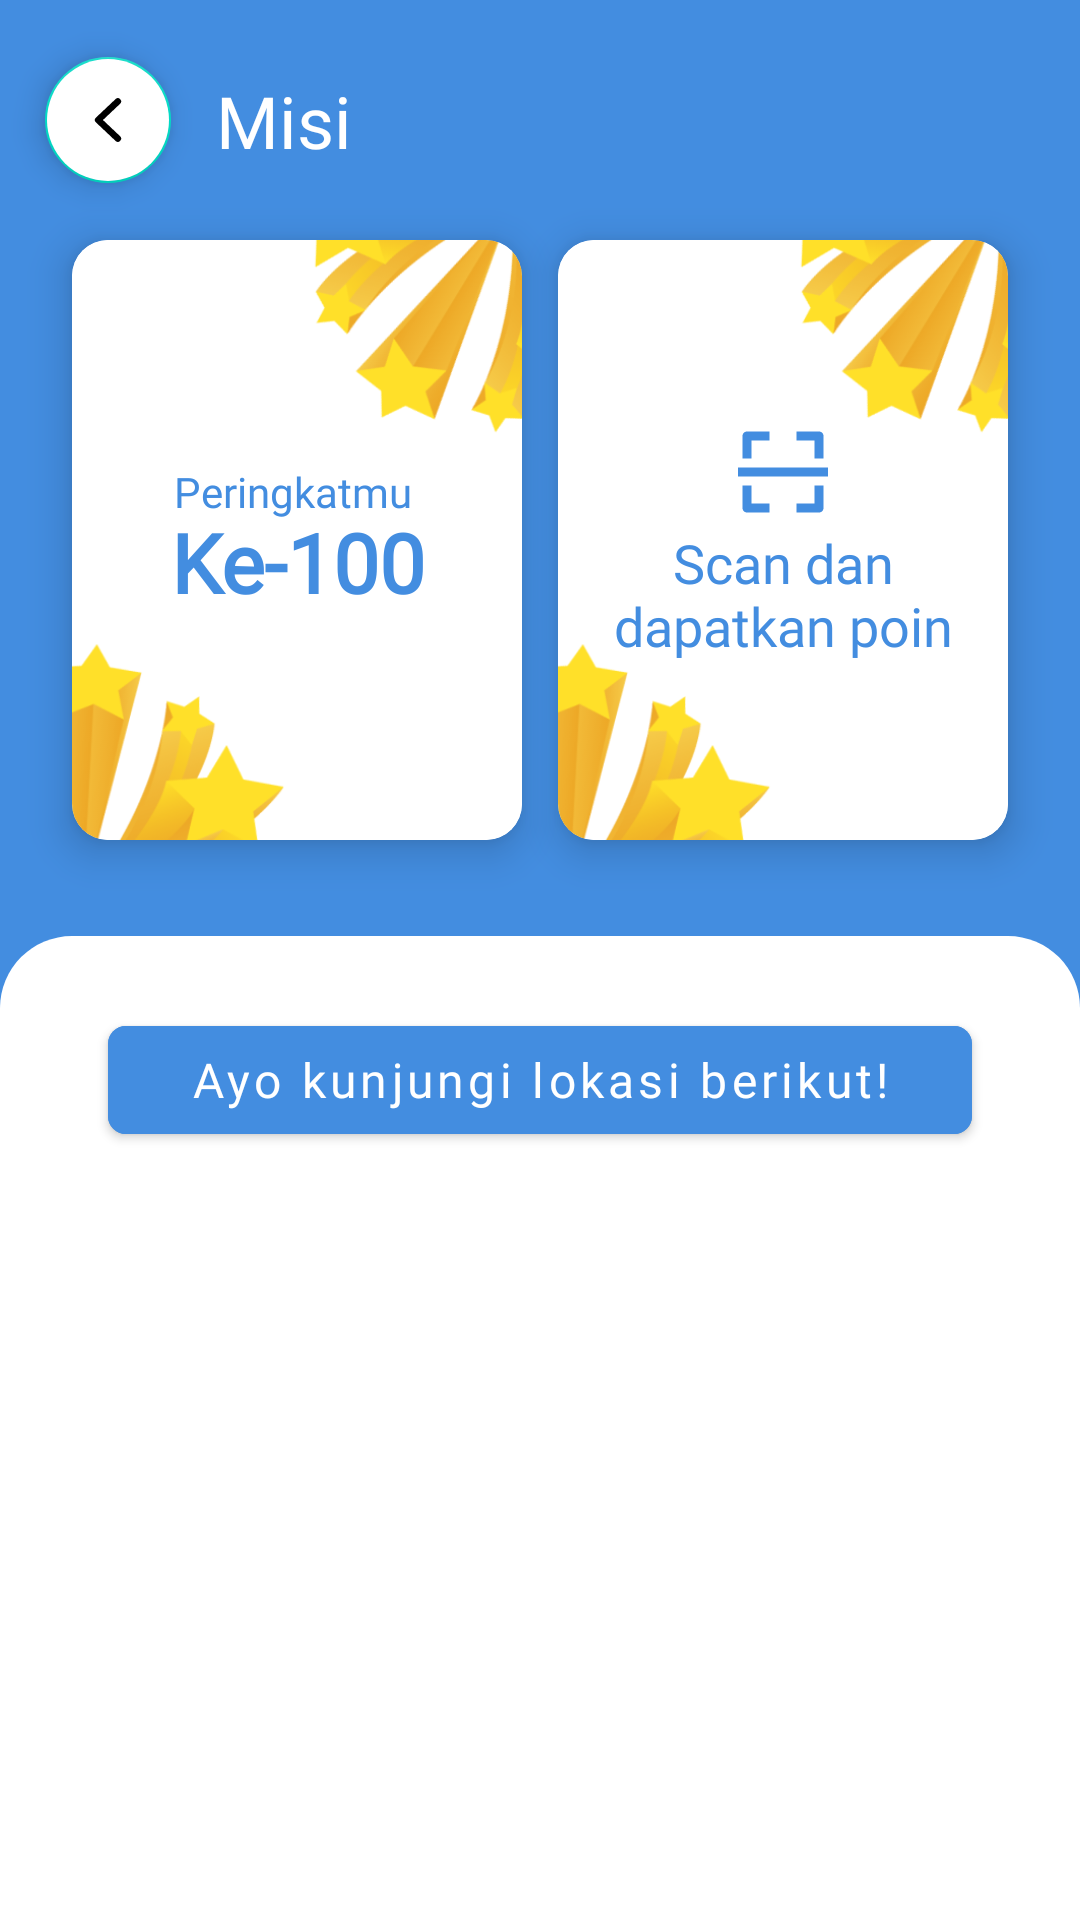

Icons on this 1080×1920 Android screen, each with its box as detection(x1, y1, x2, y2):
arrow left: detection(45, 57, 171, 183)
